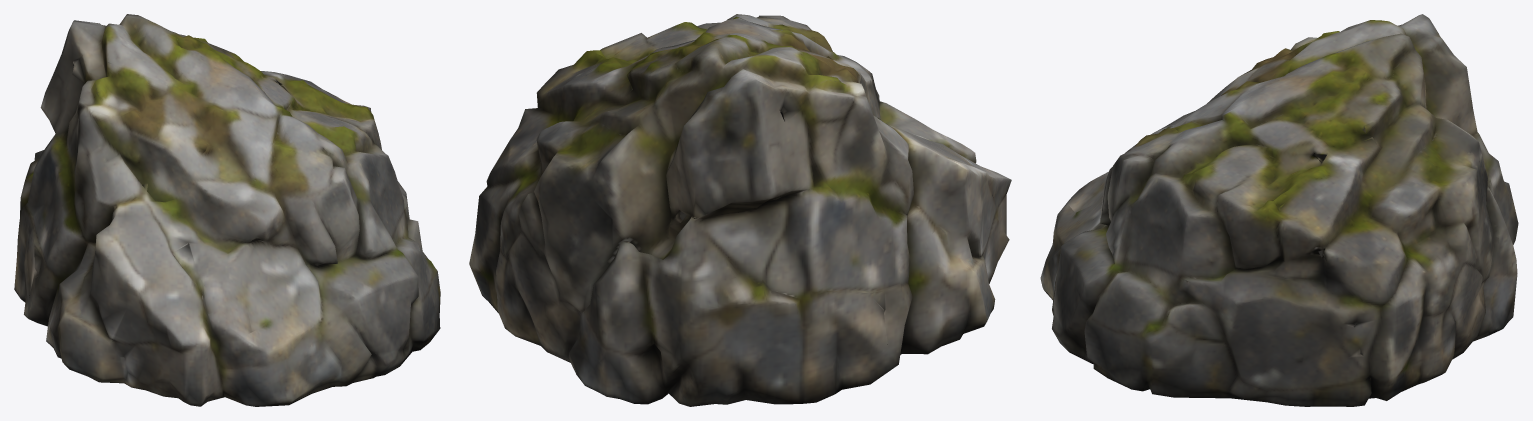
Rendered from rock1.glb.
3 renders of one model, left to right at view 1: azimuth 30°, elevation 25°; view 2: azimuth 150°, elevation 25°; view 3: azimuth 270°, elevation 25°, orthographic. The views are drawn at different scales.
Parts seen in each view (by area): view 1: MV_rock1; view 2: MV_rock1; view 3: MV_rock1.
Part boxes in pixels (x1,y1,x2,y2): MV_rock1: [14, 14, 440, 406]; MV_rock1: [469, 14, 1011, 406]; MV_rock1: [1040, 14, 1518, 406].
Size of the model in its own units: 1.62 by 1.1 by 1.79.
1 material, 1 textured.
